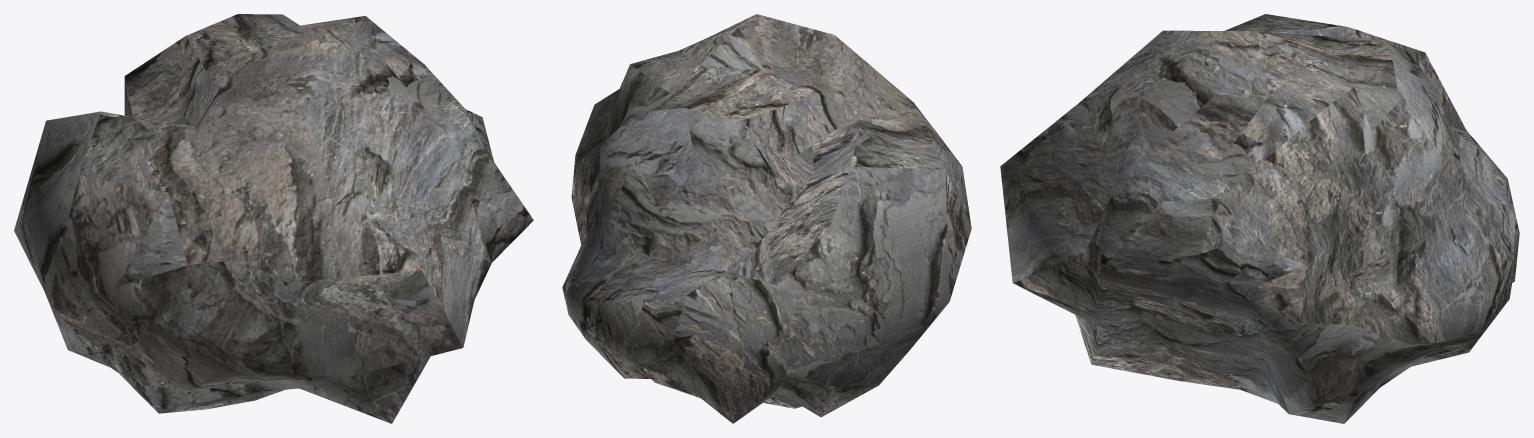
The model's file is kivi4.fbx.
The picture shows the model from 3 angles, left to right: view 1: azimuth 30°, elevation 25°; view 2: azimuth 150°, elevation 25°; view 3: azimuth 270°, elevation 25°; orthographic projection. The views are drawn at different scales.
Visible parts, largest first — view 1: Icosphere_001; view 2: Icosphere_001; view 3: Icosphere_001.
Boxes of the visible parts, bbox=[...] form: Icosphere_001: bbox=[14, 14, 533, 423]; Icosphere_001: bbox=[562, 14, 971, 423]; Icosphere_001: bbox=[1000, 14, 1519, 423].
Bounding box in the file's own units: 4.79 × 4.22 × 5.22.
